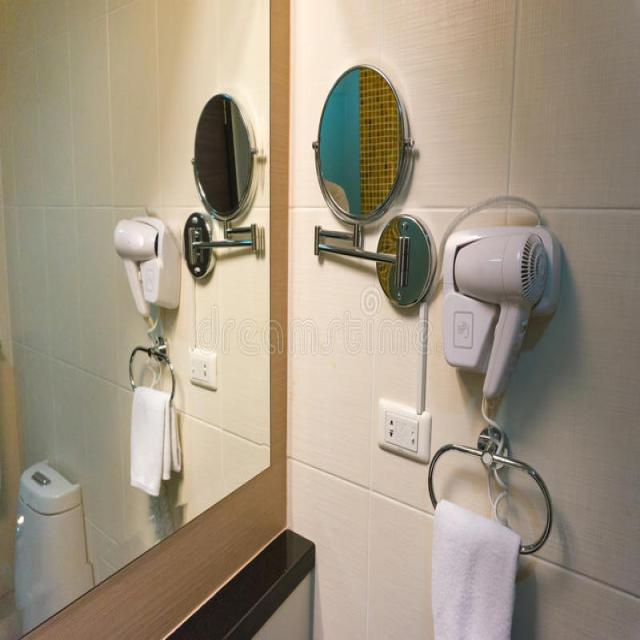dryer: (426, 187, 586, 566), (440, 219, 568, 434)
